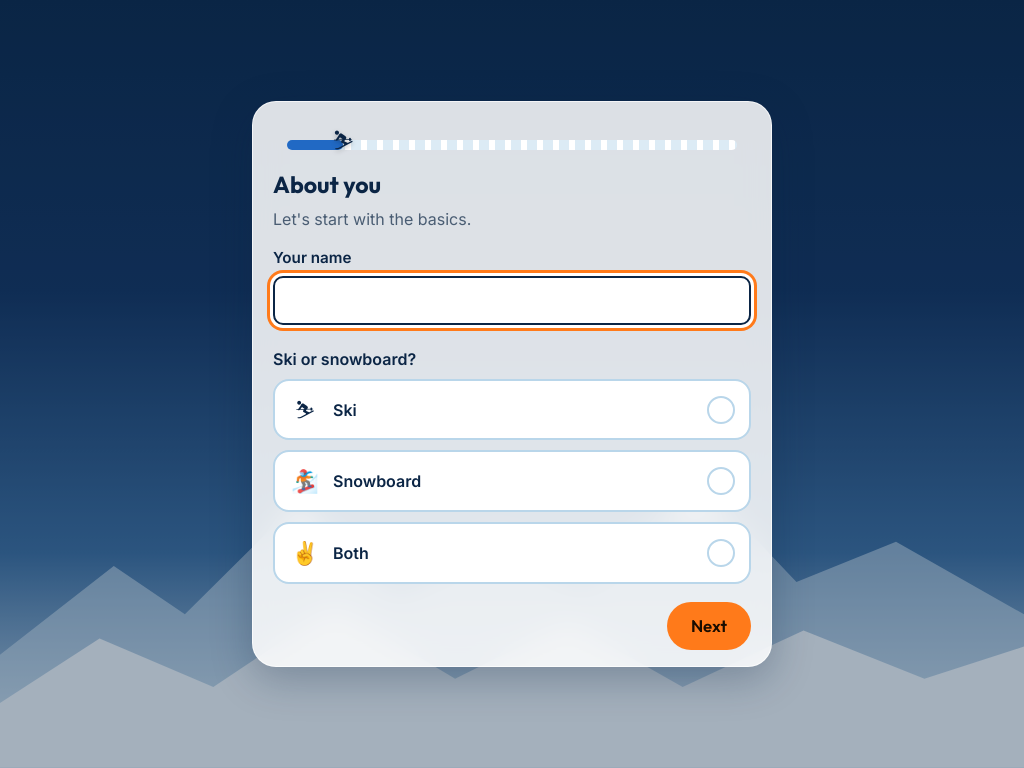
Test: onboarding: step 1 (About you) › is required: no Skip, and Next validates name and sport
Click the button "Next": (709, 626) x1=667 y1=602 x2=751 y2=650
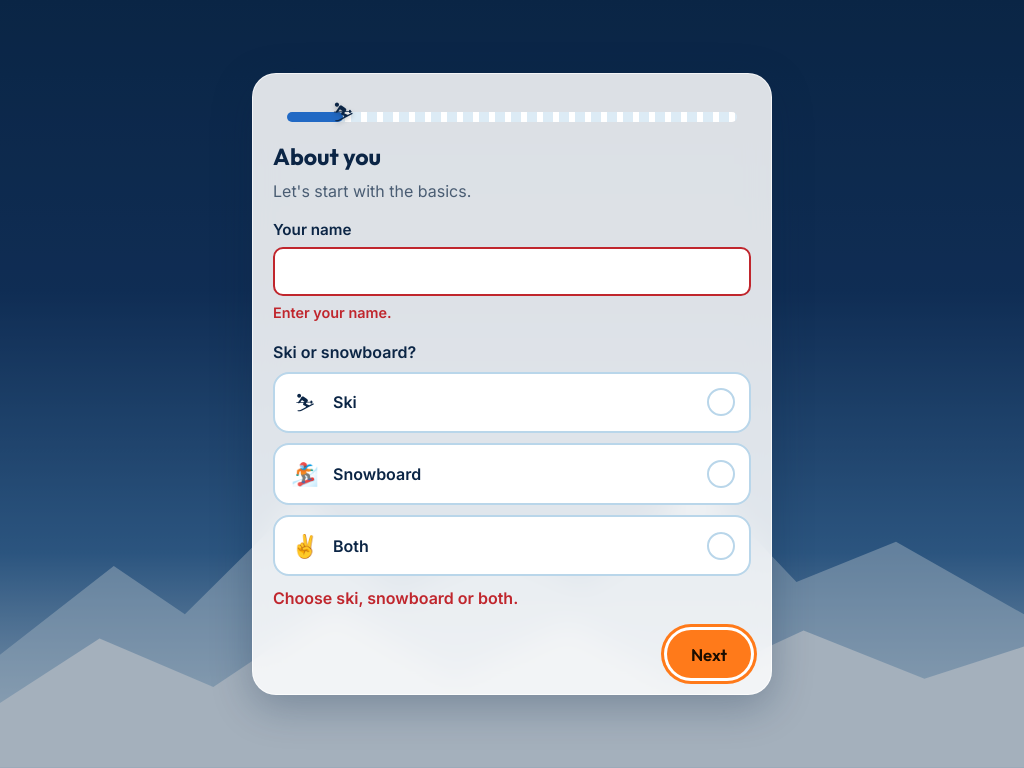
Check: the dialog "About you" is shown, box x1=252 y1=73 x2=772 y2=695
Check: the text "Choose ski, snowboard or both." is shown, box x1=273 y1=588 x2=518 y2=608
